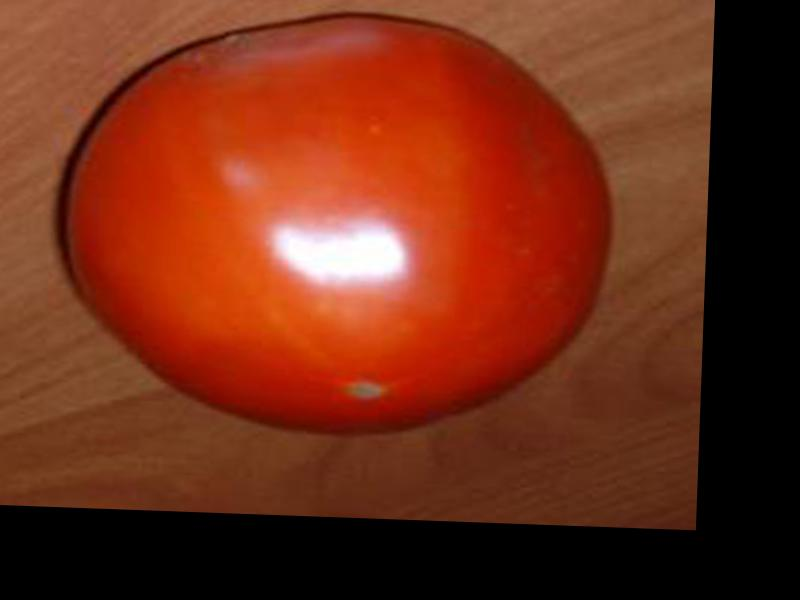Tomato: (49, 6, 624, 446)
